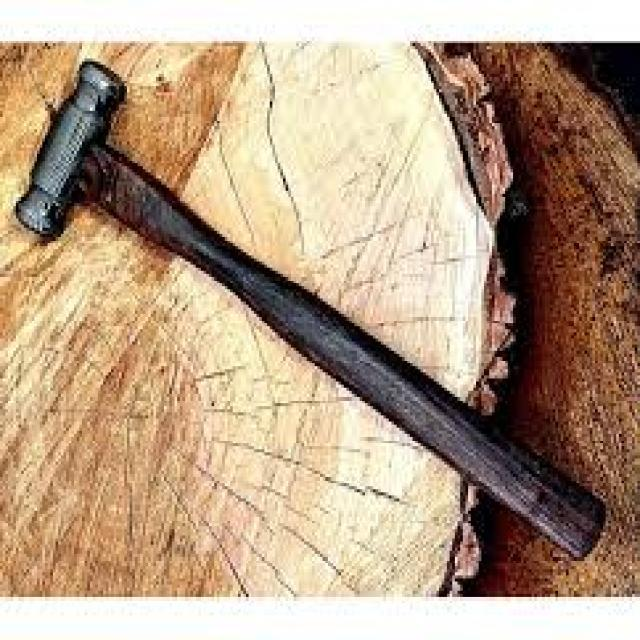hammer: (9, 56, 612, 566)
